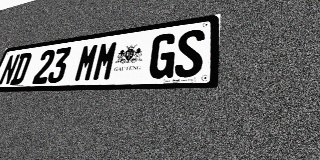2: (32, 49, 57, 84)
3: (46, 47, 72, 83)
D: (9, 52, 33, 85)
G: (147, 32, 178, 79)
M: (91, 40, 119, 81), (73, 43, 100, 82)
N: (0, 54, 21, 85)
S: (174, 28, 205, 78)
